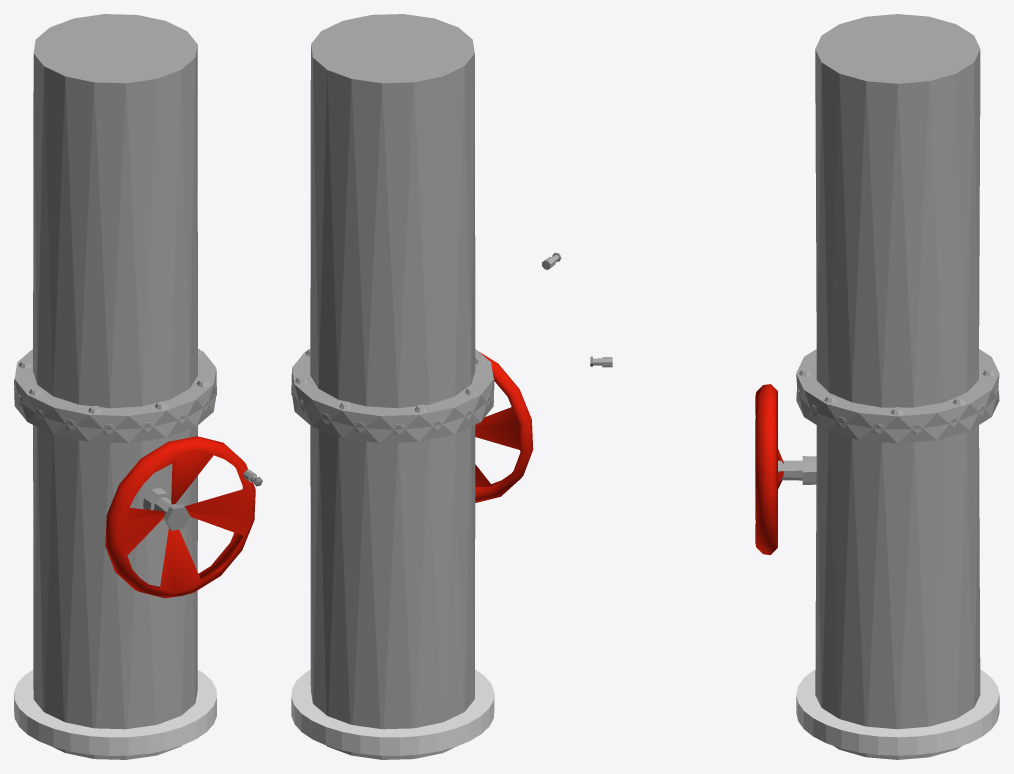
File: intersecao.fbx
3 views of the same model, side by side, from view 1: azimuth 30°, elevation 25°; view 2: azimuth 150°, elevation 25°; view 3: azimuth 270°, elevation 25° (orthographic).
Parts seen in each view (by area): view 1: Cano1, Cylinder.001, Valvula, Cylinder.003; view 2: Cano1, Cylinder.001, Cylinder.003, Valvula; view 3: Cano1, Cylinder.001, Cylinder.003, Valvula.
Boxes of the visible parts, x1,y1,x2,y2 form: Cano1: (14, 14, 216, 434); Cylinder.001: (14, 379, 216, 759); Valvula: (105, 436, 255, 598); Cylinder.003: (14, 670, 216, 755); Cano1: (291, 14, 494, 434); Cylinder.001: (291, 378, 494, 759); Cylinder.003: (291, 669, 494, 755); Valvula: (475, 352, 533, 502); Cano1: (796, 14, 999, 433); Cylinder.001: (796, 387, 999, 759); Cylinder.003: (796, 669, 999, 755); Valvula: (755, 384, 816, 555).
Bounding box in the file's own units: 246 × 903 × 495.
